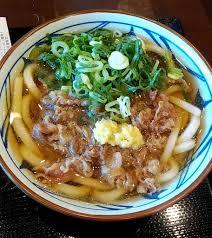niku: (2, 5, 211, 238)
